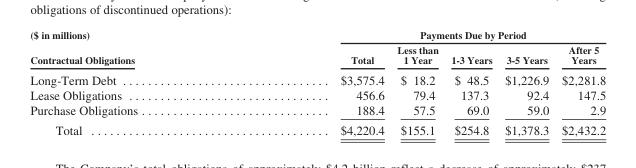table: (29, 28, 605, 136)
table column: (29, 28, 238, 136), (238, 28, 390, 136), (497, 28, 554, 136), (390, 28, 444, 136), (444, 28, 497, 136), (554, 28, 605, 136)
table column header: (29, 28, 605, 68)
table row: (29, 42, 605, 68), (29, 68, 605, 86), (29, 101, 605, 119), (29, 119, 605, 136), (29, 86, 605, 101), (29, 28, 605, 42)
table spanning cell: (29, 28, 238, 68), (238, 28, 605, 42)
